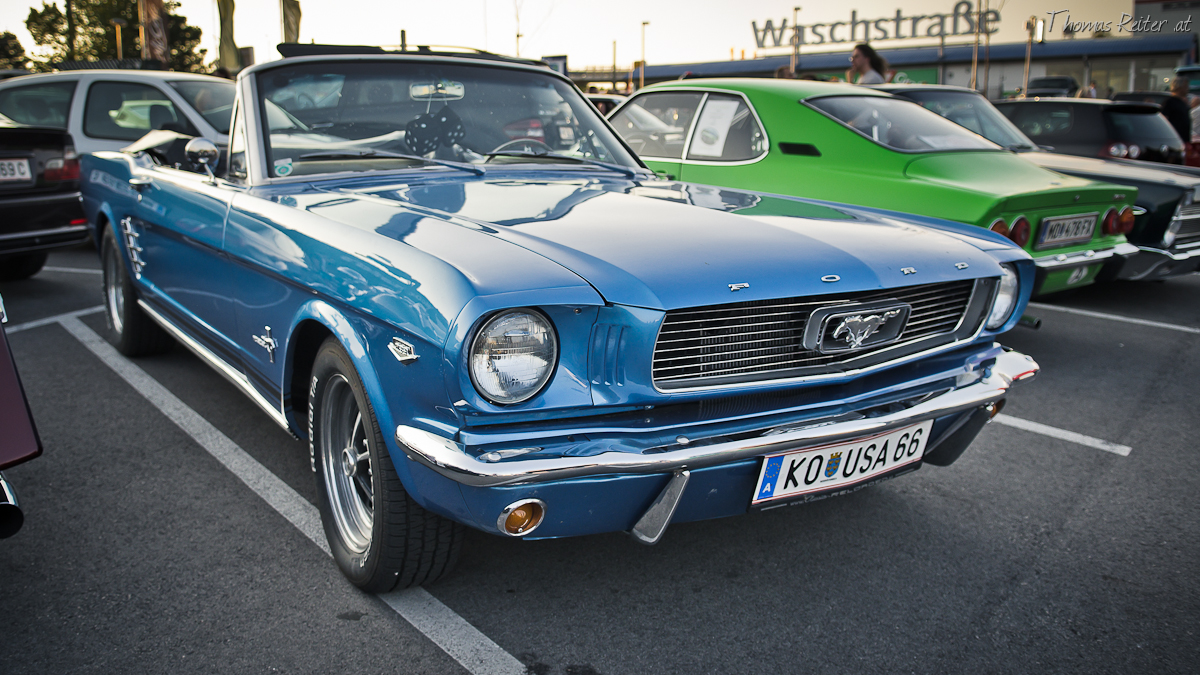other: (102, 59, 1032, 618), (632, 57, 1115, 290), (0, 113, 96, 282)
